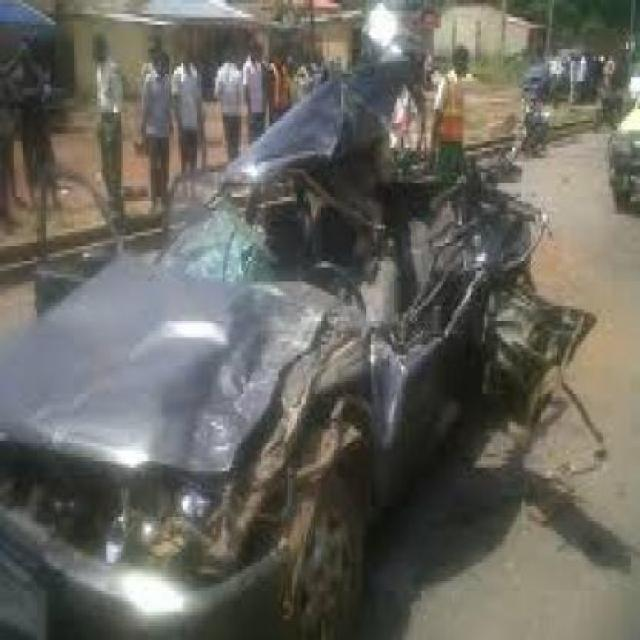accident: (3, 44, 601, 640)
